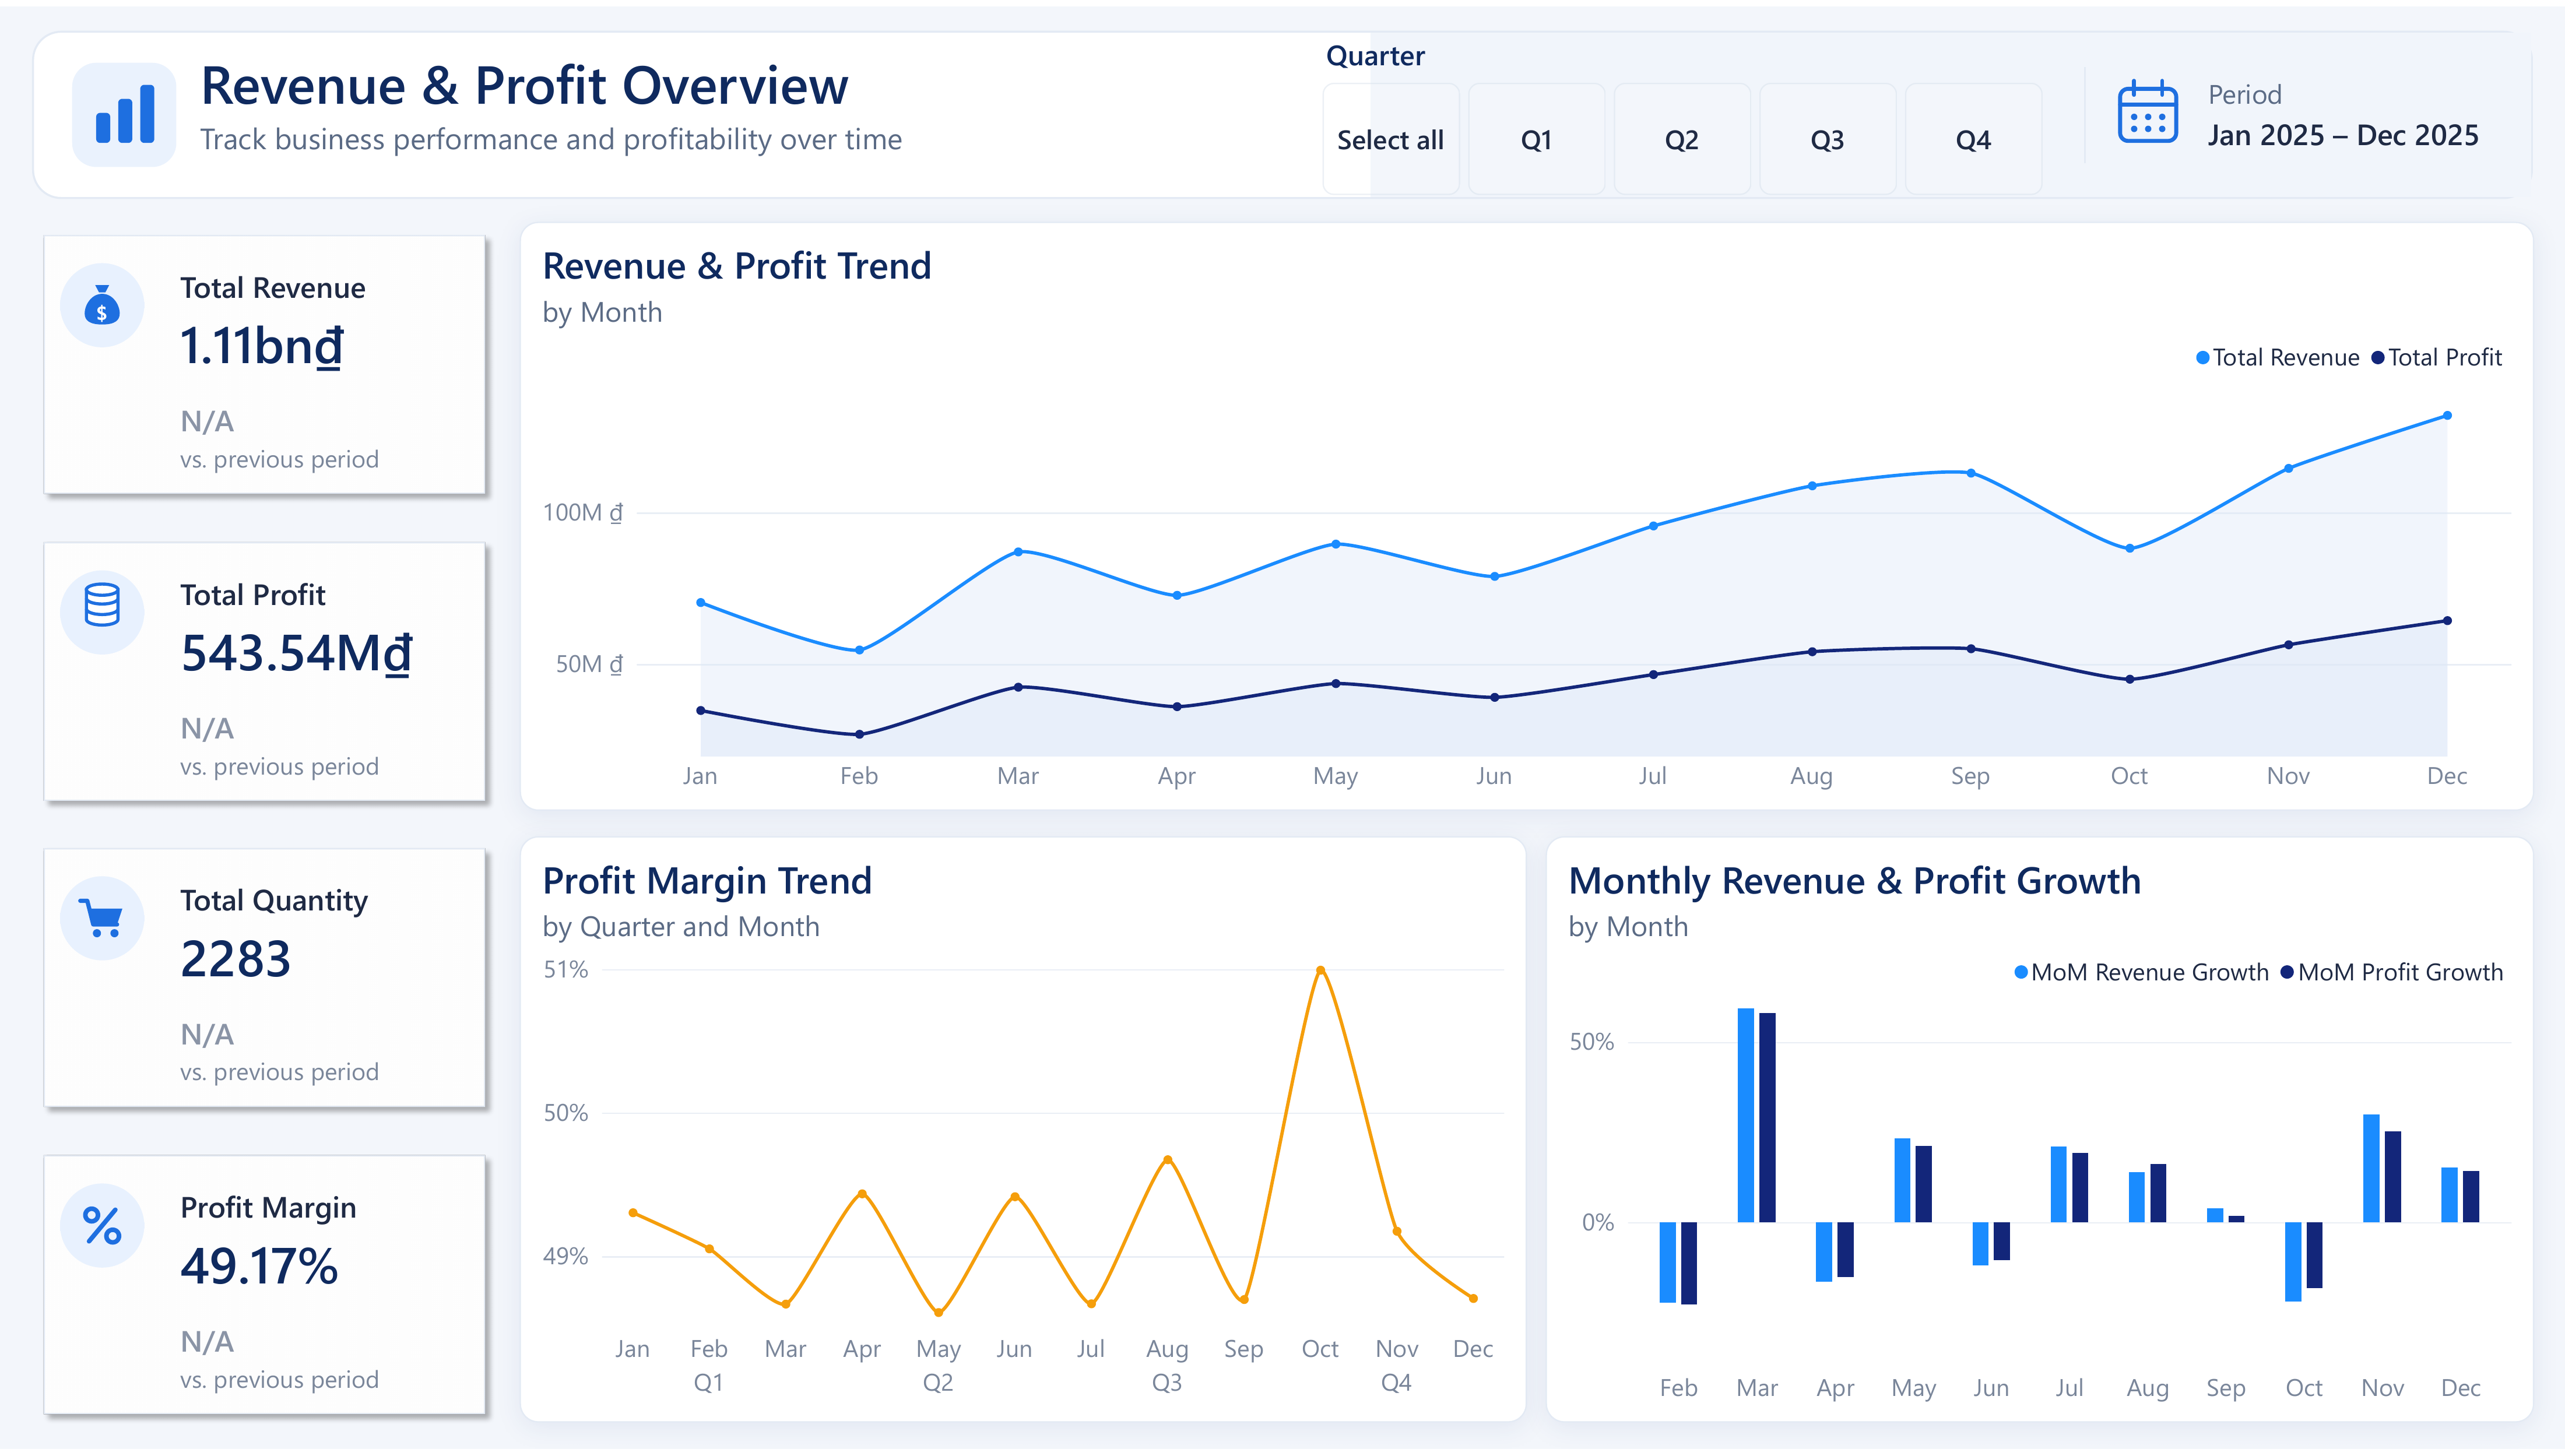

The page's visual inventory and layout, read from the dashboard file:
{"tool":"powerbi","page":{"name":"Page 1","canvas":[1280,720],"ordinal":0},"visuals":[{"type":"shape","box":[0,0,1280,124.2],"z":0},{"type":"cardVisual","fields":{"Data":["SalesTable.Total Profit"]},"box":[0,448.5,201.8,113.9],"z":1000},{"type":"cardVisual","fields":{"Data":["SalesTable.Profit Margin"]},"box":[0,584.8,200.1,119],"z":2000},{"type":"cardVisual","fields":{"Data":["SalesTable.Total Quantity"]},"box":[0,303.6,201.8,113.9],"z":3000},{"type":"cardVisual","fields":{"Data":["SalesTable.Total Revenue"]},"box":[0,144.9,200.1,127.7],"z":4000},{"type":"lineChart","fields":{"Category":["DateTable.Quarter","DateTable.Month"],"Y":["SalesTable.Total Profit","SalesTable.Total Revenue"]},"box":[281.2,134.6,998.8,314],"z":5000},{"type":"clusteredColumnChart","fields":{"Category":["DateTable.Date.Variation.Date Hierarchy.Quarter","DateTable.Date.Variation.Date Hierarchy.Month"],"Y":["SalesTable.MoM Revenue Growth","SalesTable.MoM Profit Growth"]},"box":[269.1,351.9,500.3,367.4],"z":6000},{"type":"lineChart","fields":{"Category":["DateTable.Date.Variation.Date Hierarchy.Quarter","DateTable.Date.Variation.Date Hierarchy.Month"],"Y":["SalesTable.Profit Margin"]},"box":[829.8,410.6,452,310.5],"z":7000},{"type":"advancedSlicerVisual","fields":{"Values":["DateTable.Date.Variation.Date Hierarchy.Quarter"]},"box":[781.5,13.8,486.5,208.7],"z":8000},{"type":"textbox","box":[41.4,20.7,600.3,124.2],"z":8001}]}

Visuals, with their boxes in screenshot pixels (x1, y1, x2, y2), scaled from the page's 1280x720 canvas onto the 2565x1456 screenshot:
shape: 0, 0, 2564, 251
cardVisual - SalesTable.Total Profit: 0, 907, 405, 1137
cardVisual - SalesTable.Profit Margin: 0, 1183, 401, 1423
cardVisual - SalesTable.Total Quantity: 0, 614, 405, 844
cardVisual - SalesTable.Total Revenue: 0, 293, 401, 551
lineChart - DateTable.Quarter x DateTable.Month: 564, 272, 2564, 907
clusteredColumnChart - DateTable.Date.Variation.Date Hierarchy.Quarter x DateTable.Date.Variation.Date Hierarchy.Month: 539, 712, 1542, 1455
lineChart - DateTable.Date.Variation.Date Hierarchy.Quarter x DateTable.Date.Variation.Date Hierarchy.Month: 1663, 831, 2564, 1455
advancedSlicerVisual - DateTable.Date.Variation.Date Hierarchy.Quarter: 1566, 28, 2541, 450
textbox: 83, 42, 1286, 293
